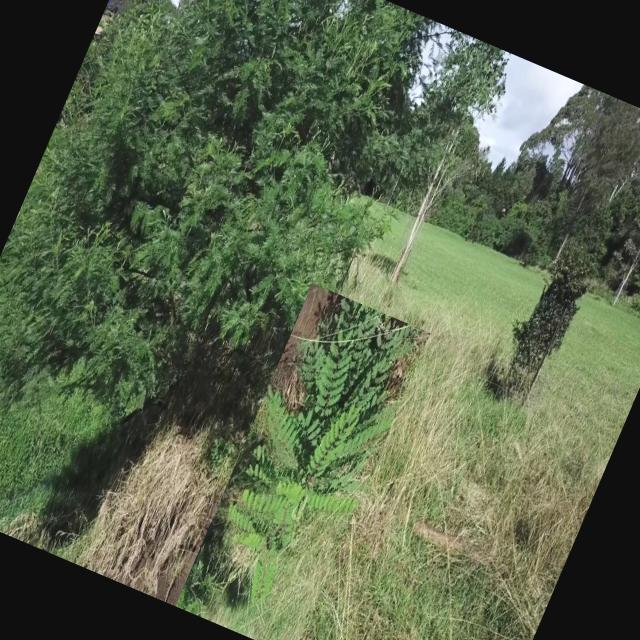Mysore-Thorn-Weed: (174, 283, 429, 640)
